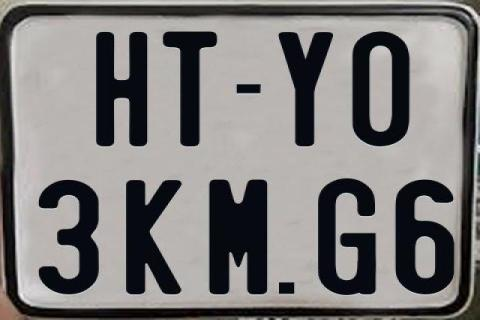0: (393, 179, 459, 295), (36, 180, 98, 298), (352, 29, 412, 145)
G: (317, 176, 378, 295)
H: (96, 31, 152, 149)
K: (126, 179, 188, 296)
M: (209, 178, 268, 296)
T: (162, 31, 222, 147)
Y: (278, 31, 334, 147)
